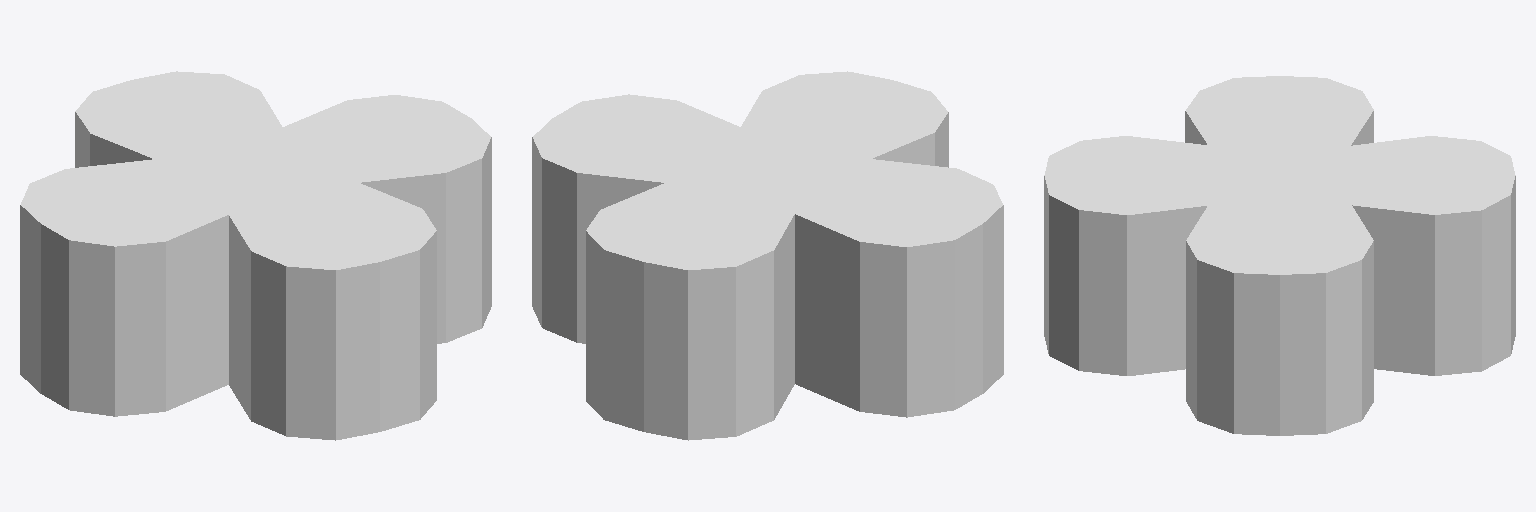
URDF robot description (clover):
<?xml version="1.0"?> 

<!-- Copyright 2023 [author] -->

<!-- Licensed under the Apache License, Version 2.0 (the "License"); -->
<!-- you may not use this file except in compliance with the License. -->
<!-- You may obtain a copy of the License at -->

<!--     http://www.apache.org/licenses/LICENSE-2.0 -->

<!-- Unless required by applicable law or agreed to in writing, software -->
<!-- distributed under the License is distributed on an "AS IS" BASIS, -->
<!-- WITHOUT WARRANTIES OR CONDITIONS OF ANY KIND, either express or implied. -->
<!-- See the License for the specific language governing permissions and -->
<!-- limitations under the License. -->

<!-- Authors: [author], [author] -->

<robot name="clover">
    <link name="clover">
        <visual>
            <origin xyz="-6.25 4 0" rpy="0 0 0" />
            <geometry>
                <mesh filename='v2_clover_obstacle.stl' />
            </geometry>
            <material name="grey">
                <color rgba="0.95 0.95 0.95 1"/>
            </material>
        </visual>
        <collision>
            <origin xyz="-6.25 4 0" rpy="0 0 0" />
            <geometry>
                <mesh filename='v2_clover_obstacle.stl' />
            </geometry>
        </collision>
        <inertial>
            <mass value="10"/>
            <inertia ixx="0.4" ixy="0.0" ixz="0.0" iyy="0.4" iyz="0.0" izz="0.2" />
        </inertial>
    </link>
</robot>

--- Render facts (derived) ---
3 views of the same robot in one strip: view 1: azimuth 30°, elevation 25°; view 2: azimuth 150°, elevation 25°; view 3: azimuth 270°, elevation 25° (orthographic).
Robot: clover — 1 links, 0 joints (none); root link clover; default pose: all joints at 0.
Visible links, largest first — view 1: clover; view 2: clover; view 3: clover.
Boxes of the visible links, left/top/right/bottom form: clover: left=20, top=71, right=491, bottom=440; clover: left=532, top=71, right=1003, bottom=440; clover: left=1044, top=76, right=1515, bottom=435.
Size in the robot's own frame: 2 by 2 by 0.7547 metres.
1 mesh visuals loaded from 1 distinct referenced files (1 binary STL).
